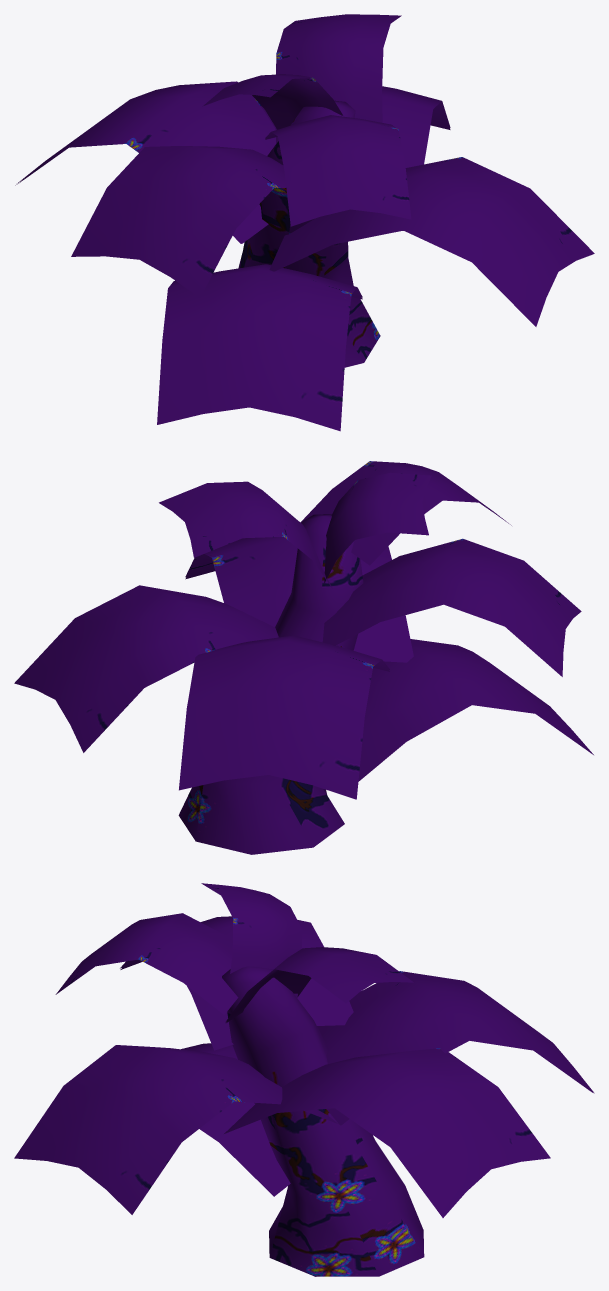
File: Plant_011.fbx
The picture shows the model from 3 angles, top to bottom: view 1: azimuth 30°, elevation 25°; view 2: azimuth 150°, elevation 25°; view 3: azimuth 270°, elevation 25°; orthographic projection. The views are drawn at different scales.
Parts seen in each view (by area): view 1: Plant_10; view 2: Plant_10; view 3: Plant_10.
Part boxes in pixels (<box>): Plant_10: <box>15,14,594,431</box>; Plant_10: <box>14,461,593,854</box>; Plant_10: <box>14,883,594,1276</box>.
Bounding box in the file's own units: 368 × 243 × 404.
